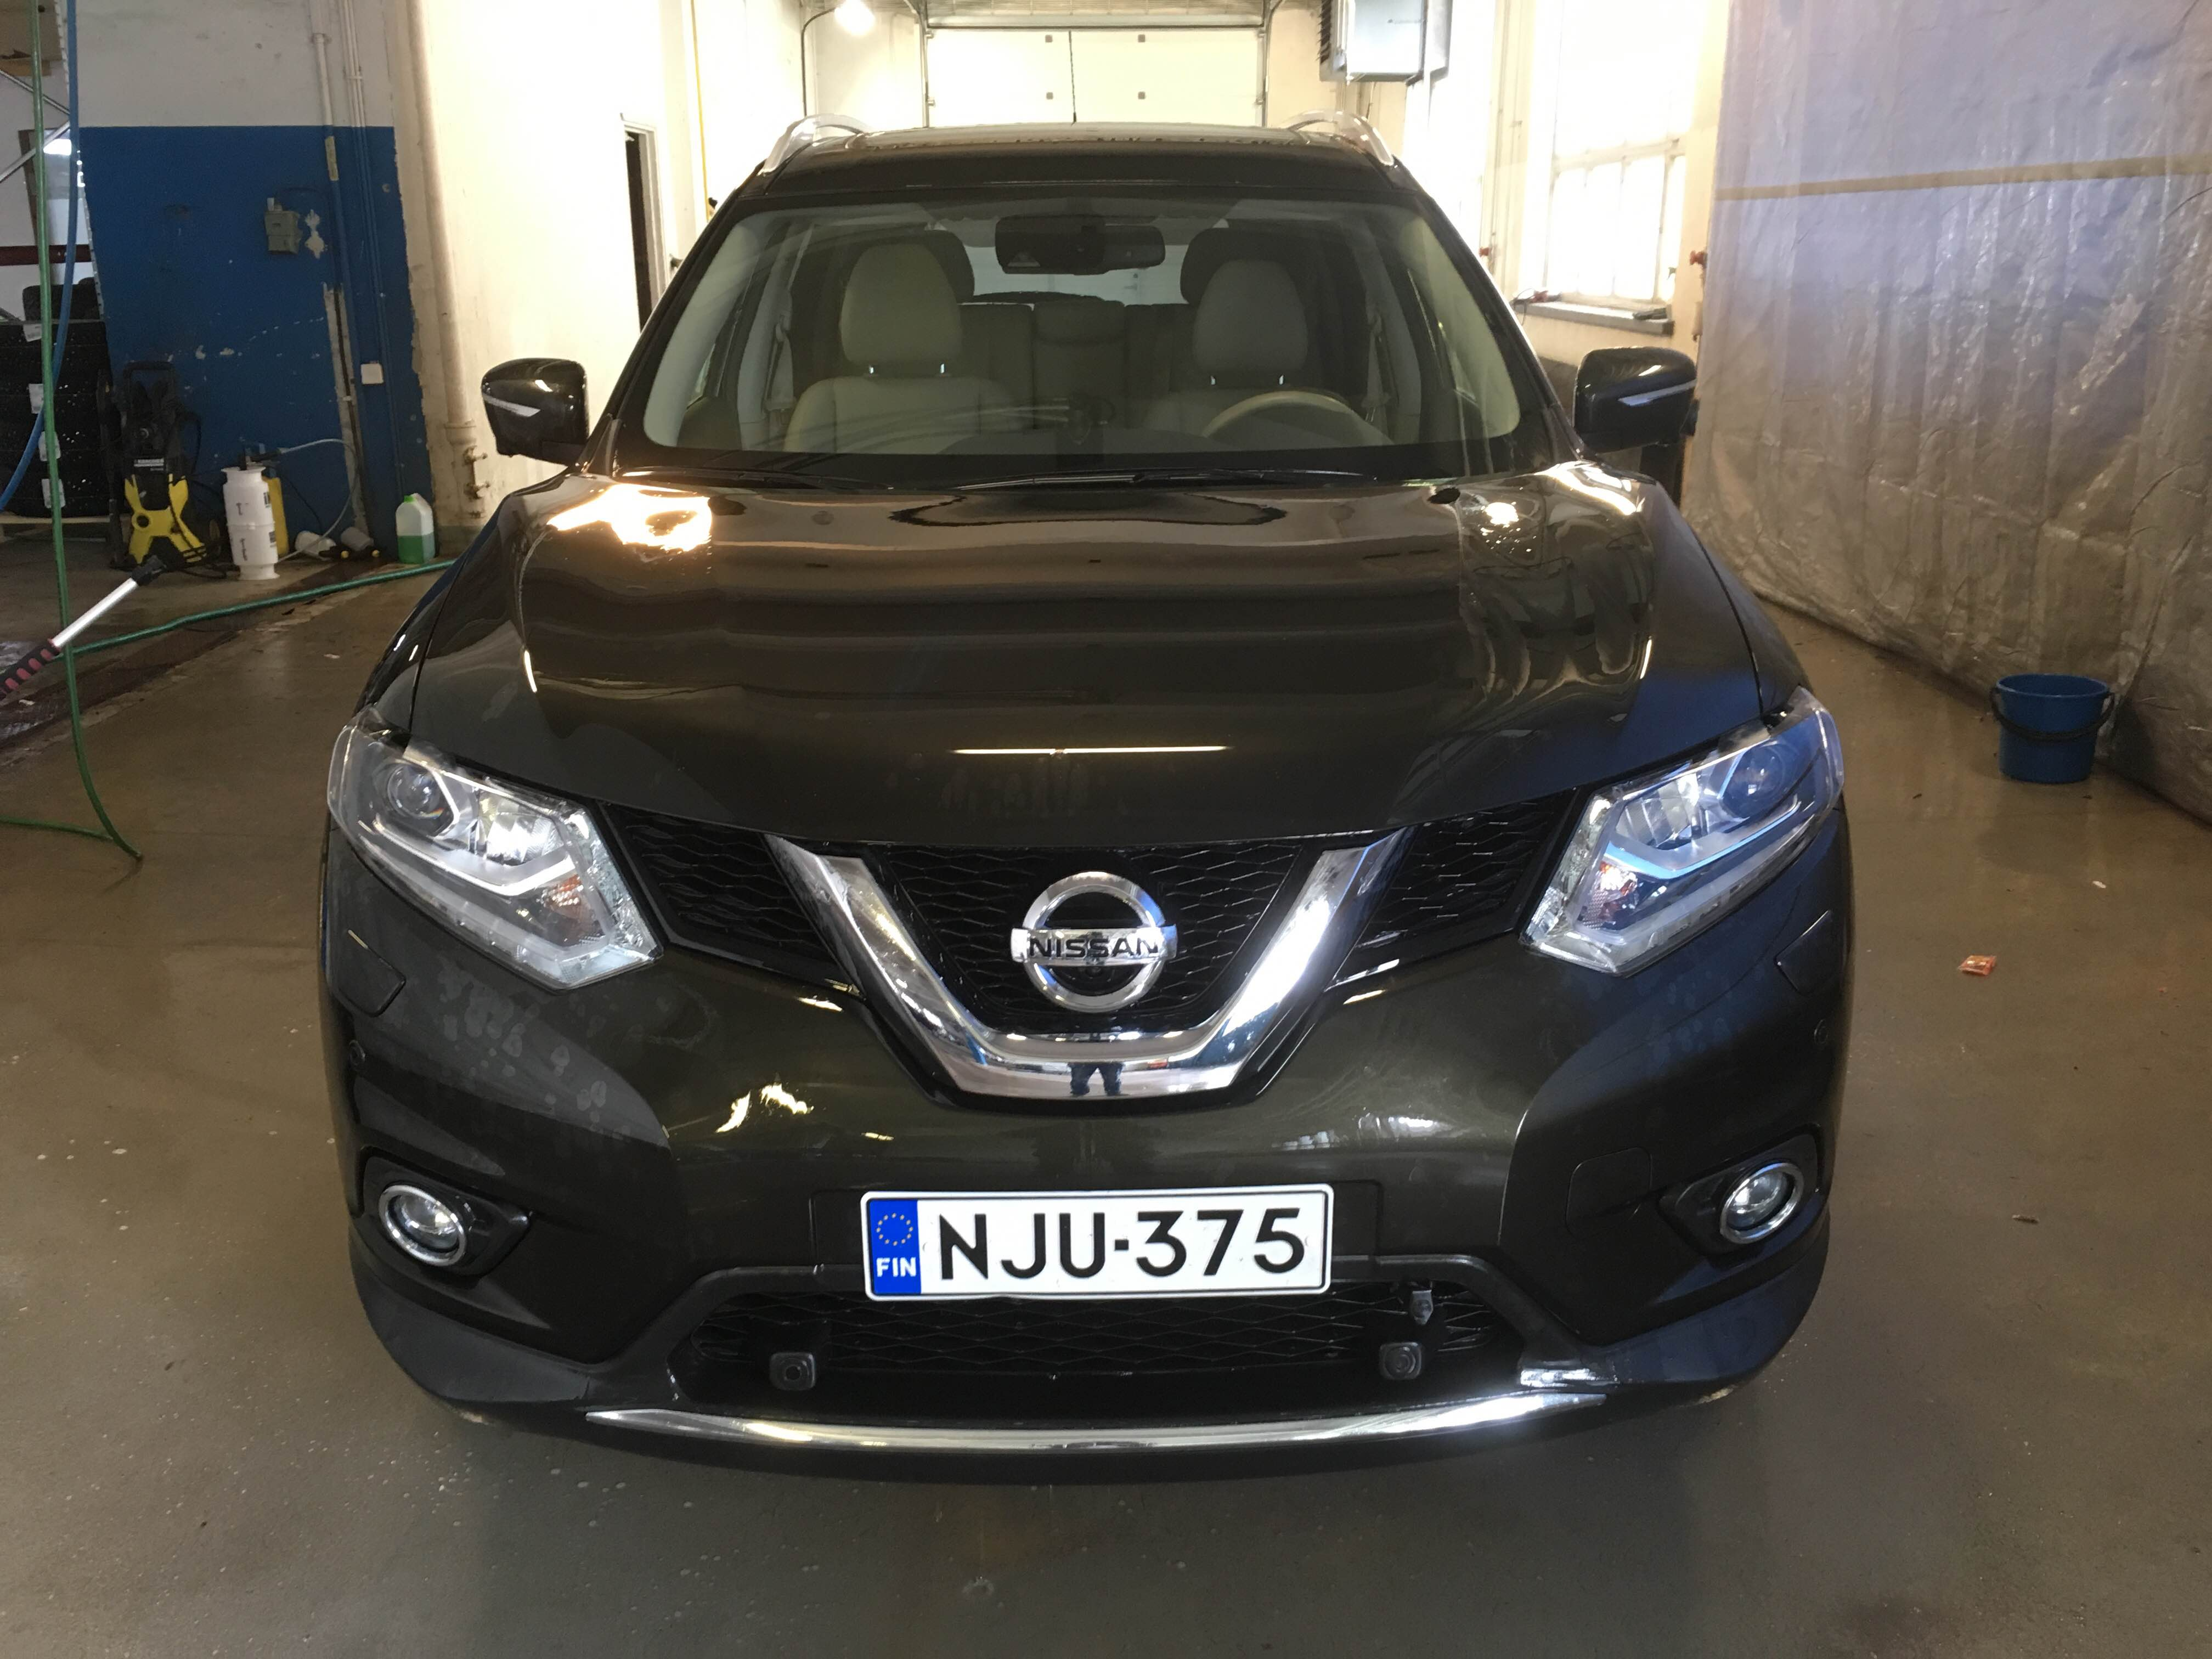license: (862, 1187, 1327, 1302)
